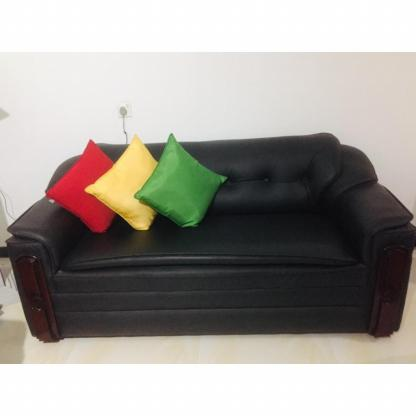Sofa: (5, 135, 410, 342)
